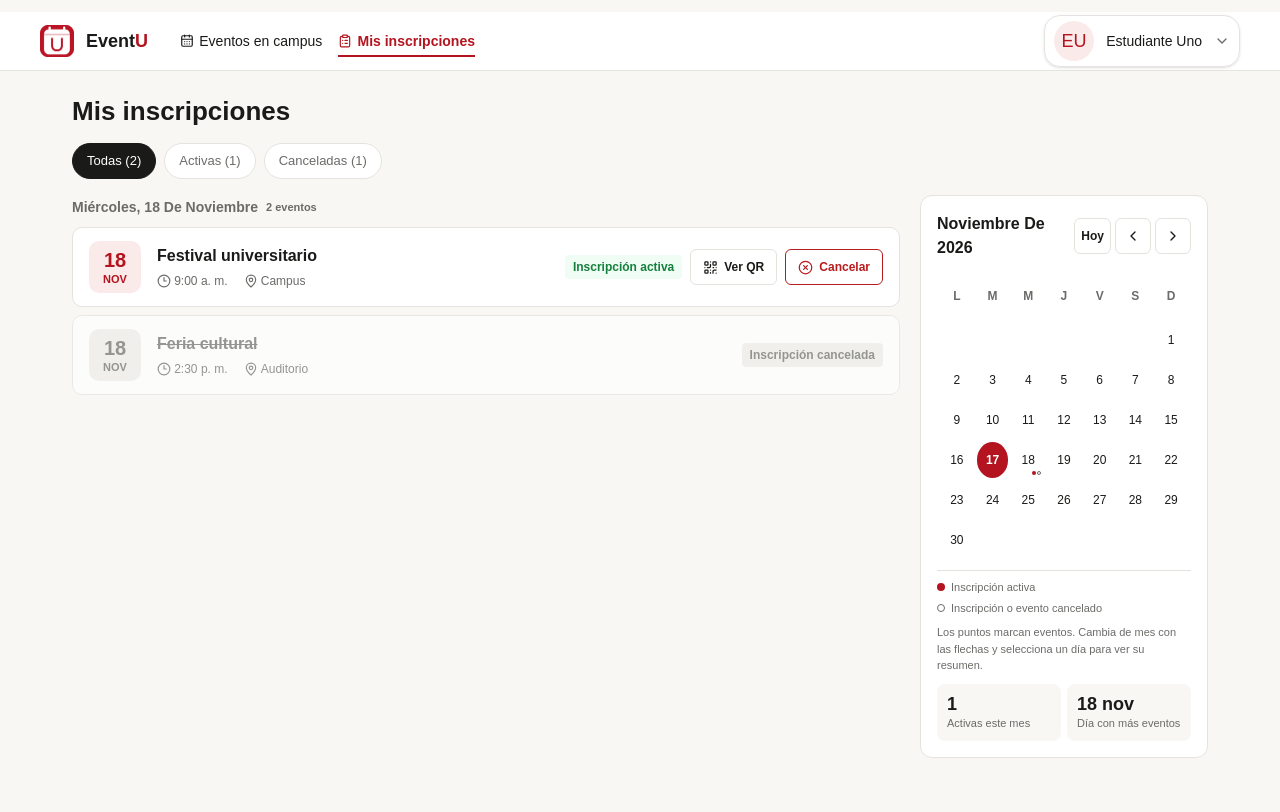
Test: Mis inscripciones (HU-11, HU-12, HU-14) › lista las inscripciones y filtra las canceladas
The width and height of the screenshot is (1280, 812).
Expected: the heading "Festival universitario" is shown, [157, 247, 317, 264]
Expected: the button "Activas (1)" is shown, [164, 143, 256, 179]
Click the button "Canceladas (1)": (323, 161) [264, 143, 382, 179]
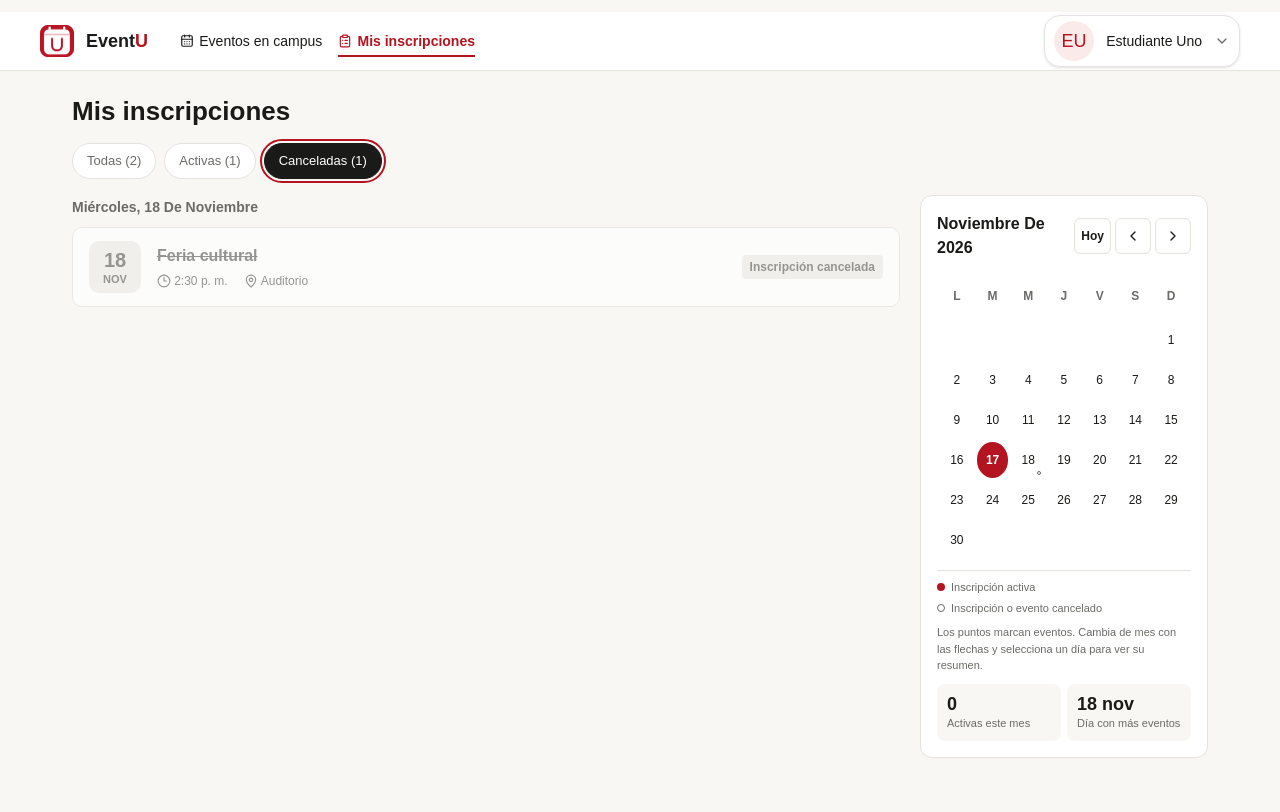
Expected: the heading "Feria cultural" is shown, [157, 247, 258, 264]
Expected: the link "Festival universitario" is gone
